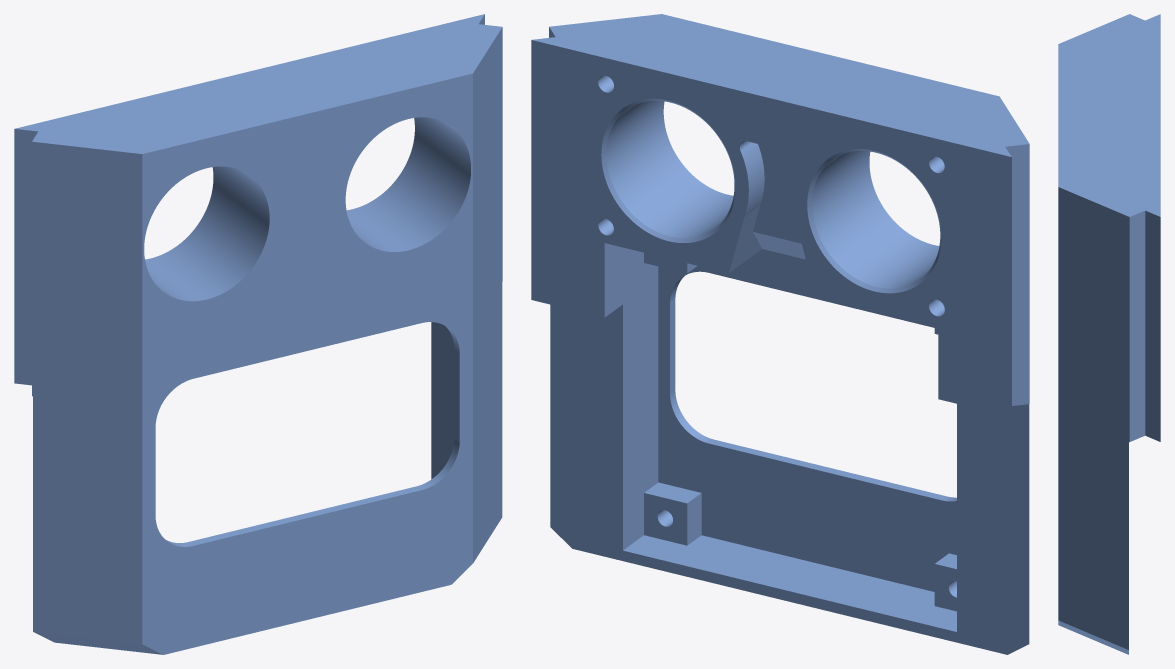
Rendered from FaceUSOLED.glb.
The picture shows the model from 3 angles, left to right: view 1: azimuth 30°, elevation 25°; view 2: azimuth 150°, elevation 25°; view 3: azimuth 270°, elevation 25°; orthographic projection. The views are drawn at different scales.
Visible parts, largest first — view 1: Node1; view 2: Node1; view 3: Node1.
Part boxes in pixels (x1,y1,x2,y2): Node1: (14,14,502,654); Node1: (531,14,1029,654); Node1: (1058,14,1160,654).
Size of the model in its own units: 61.9 by 63.6 by 13.2.
